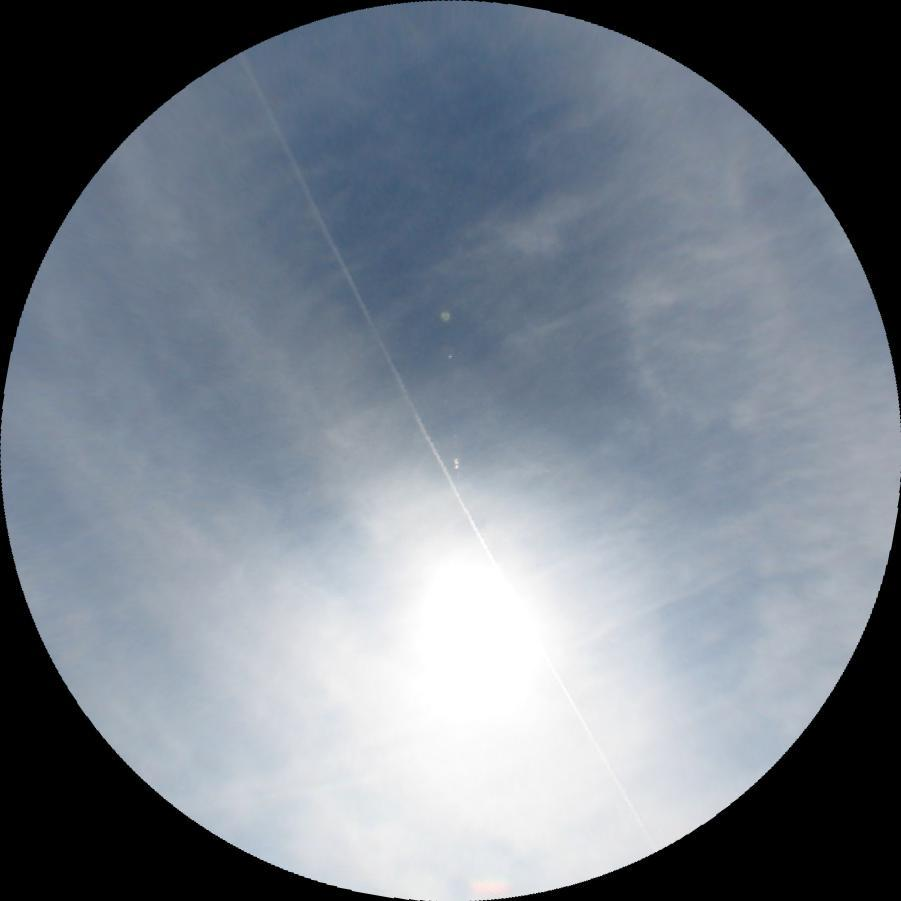contrail old: (228, 51, 659, 856)
sun: (378, 539, 556, 740)
